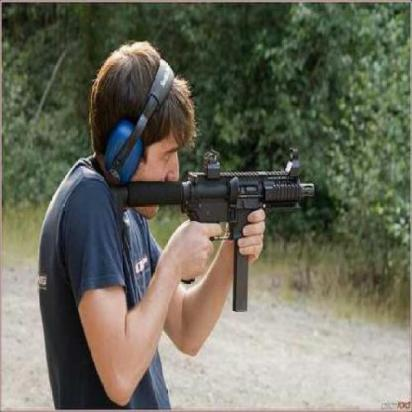Gun: (119, 154, 314, 255)
